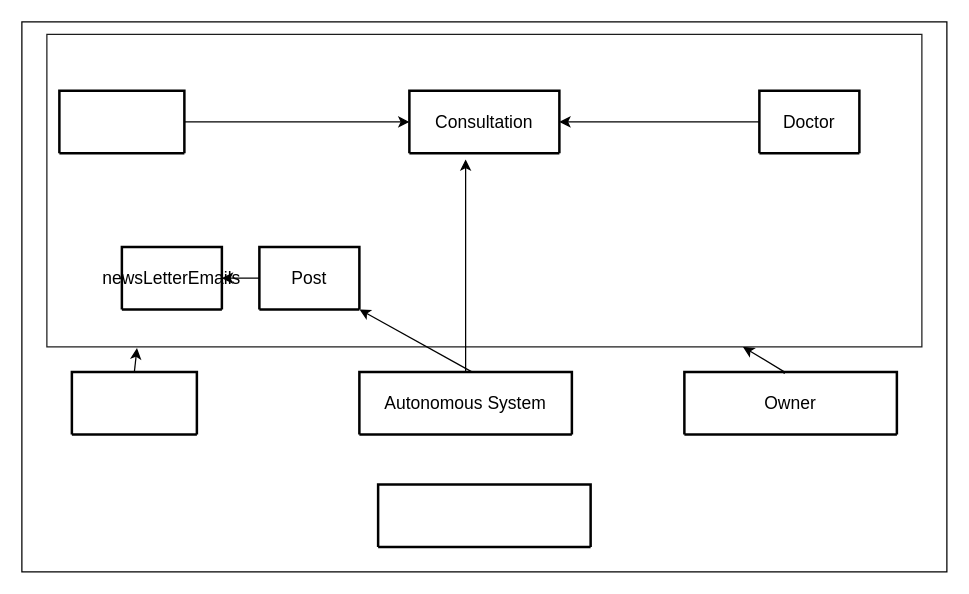
Image size: 969x594. Some labels were removed from this diagram. Each missing label, with the centre of its shape:
Assistant: point 134,402
Authentication - Authorization: point 483,515
Costumer: point 121,121
